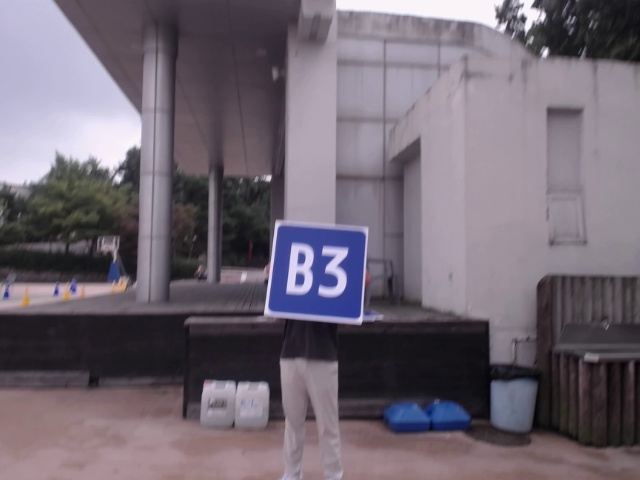delivery_b3: (270, 221, 367, 321)
